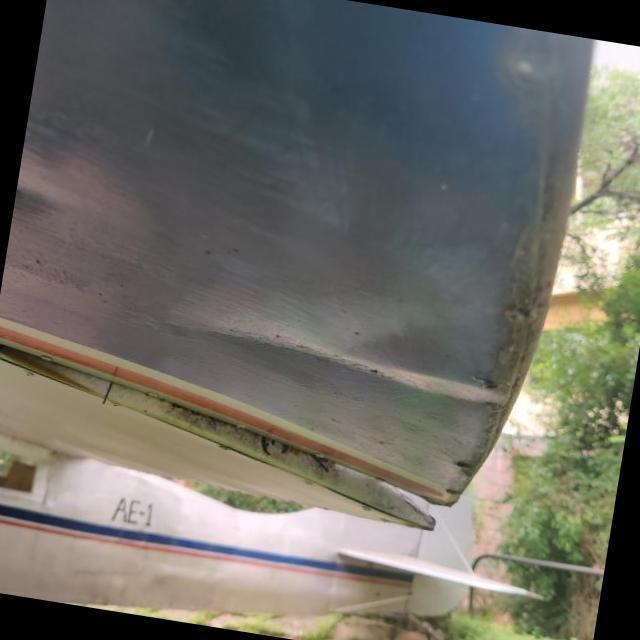dent: (146, 308, 514, 429)
